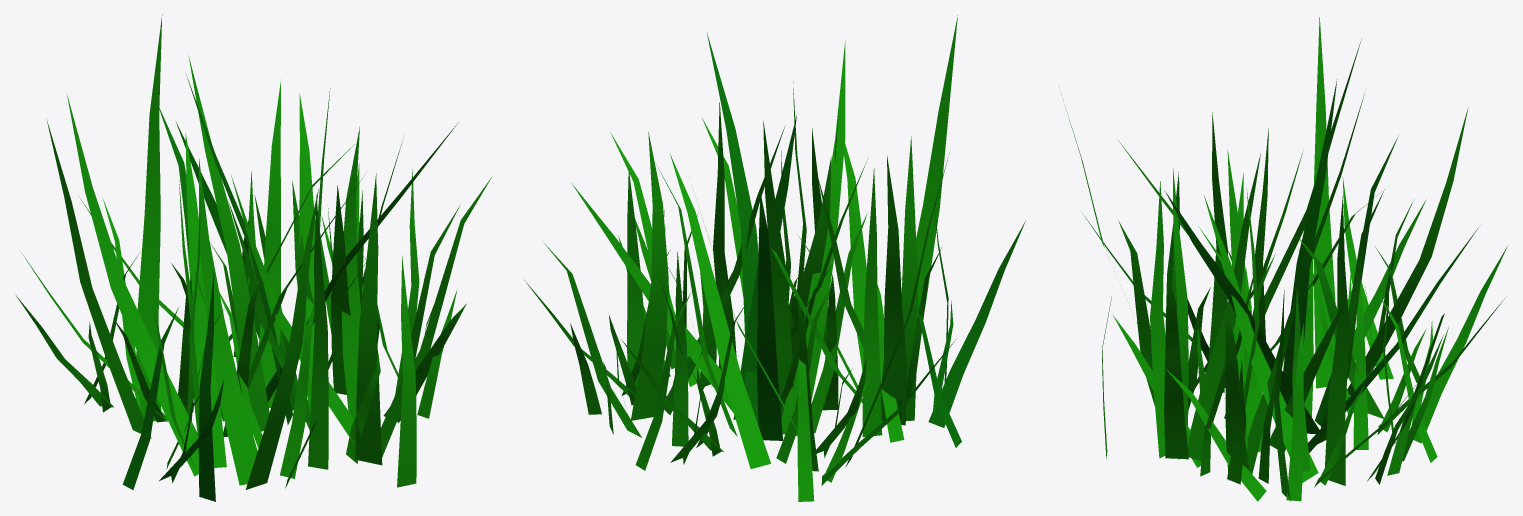
Rendered from grass1.glb.
3 renders of one model, left to right at view 1: azimuth 30°, elevation 25°; view 2: azimuth 150°, elevation 25°; view 3: azimuth 270°, elevation 25°, orthographic. The views are drawn at different scales.
Visible parts, largest first — view 1: Object_2.138, Object_2.109, Object_2.104, Object_2.135, Object_2.115, Object_2.140, Object_2.139, Object_2.137, Object_2.079, Object_2.106, Object_2.112, Object_2.144 (+31 smaller); view 2: Object_2.149, Object_2.103, Object_4.064, Object_2.113, Object_2.138, Object_4.063, Object_2.140, Object_2.105, Object_2.115, Object_2.110, Object_4.059, Object_2.150 (+34 smaller); view 3: Object_2.149, Object_2.106, Object_4.061, Object_2.143, Object_2.142, Object_2.135, Object_2.104, Object_2.151, Object_4.063, Object_2.078, Object_2.139, Object_2.082 (+33 smaller).
Part boxes in pixels (x1,y1,x2,y2): Object_2.138: (67,94,198,476); Object_2.109: (199,158,257,485); Object_2.104: (135,14,162,421); Object_2.135: (355,173,382,465); Object_2.115: (188,56,269,433); Object_2.140: (245,189,318,489); Object_2.139: (308,194,328,469); Object_2.137: (185,133,226,467); Object_2.079: (341,126,360,419); Object_2.106: (46,119,151,438); Object_2.112: (258,81,280,407); Object_2.144: (397,255,416,487); Object_2.149: (631,131,668,420); Object_2.103: (670,154,770,468); Object_4.064: (757,192,782,440); Object_2.113: (781,41,845,436); Object_2.138: (881,155,906,425); Object_4.063: (706,32,758,424); Object_2.140: (916,15,957,317); Object_2.105: (862,168,882,437); Object_2.115: (763,121,793,419); Object_2.110: (901,136,918,420); Object_4.059: (928,220,1025,427); Object_2.150: (627,168,644,387); Object_2.149: (1325,196,1349,485); Object_2.106: (1313,17,1335,388); Object_4.061: (1282,79,1337,404); Object_2.143: (1187,153,1260,460); Object_2.142: (1164,273,1188,459); Object_2.135: (1150,181,1165,458); Object_2.104: (1347,107,1468,395); Object_2.151: (1204,196,1318,482); Object_4.063: (1164,190,1319,433); Object_2.078: (1225,310,1249,480); Object_2.139: (1173,168,1188,425); Object_2.082: (1286,323,1303,501).
Bounding box in the file's own units: 20.13 × 16.79 × 20.01.
